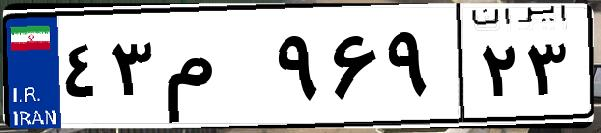2: (475, 38, 525, 113)
3: (525, 38, 570, 115), (110, 28, 158, 98)
4: (57, 26, 110, 100)
6: (330, 28, 385, 110)
9: (270, 28, 330, 110), (385, 28, 445, 110)
م: (158, 20, 270, 120)
